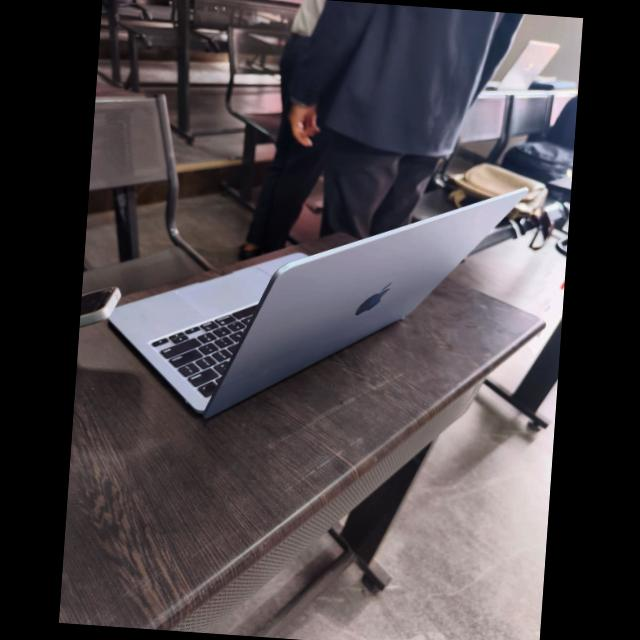laptop: (159, 150, 532, 472)
